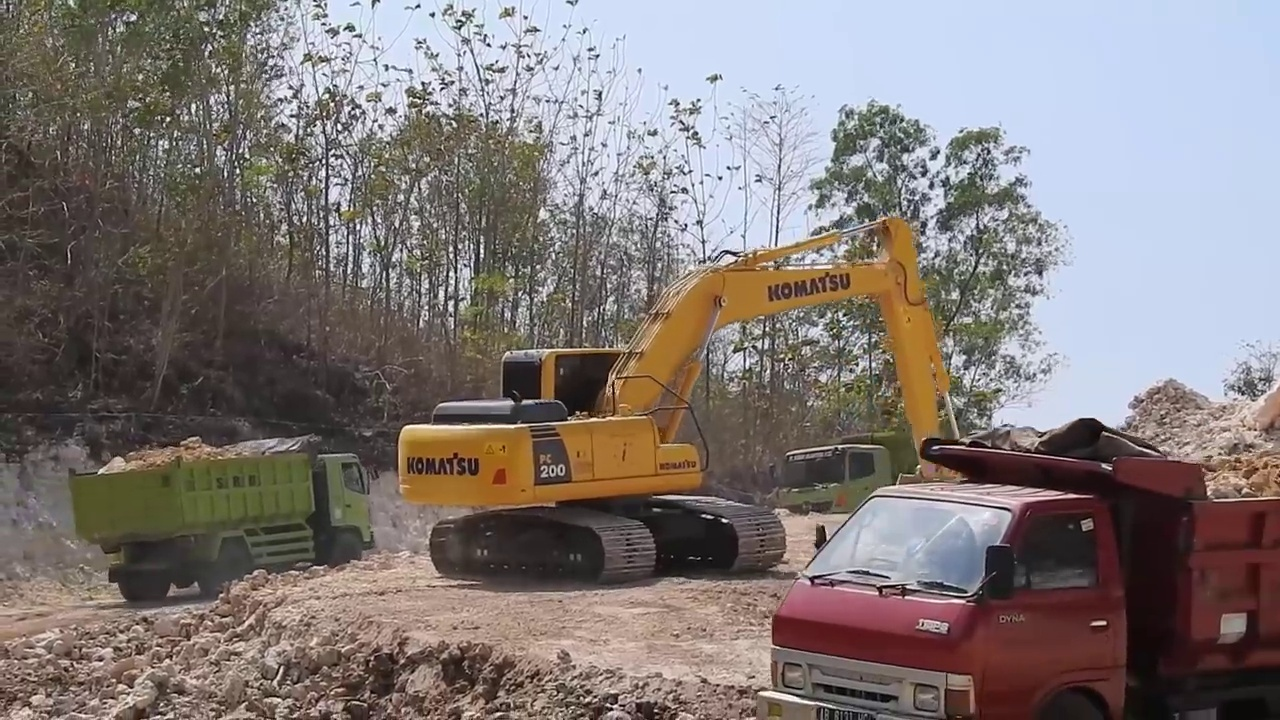excavator: (396, 209, 985, 590)
truck: (753, 414, 1280, 720), (64, 426, 385, 606), (762, 417, 1046, 547)
